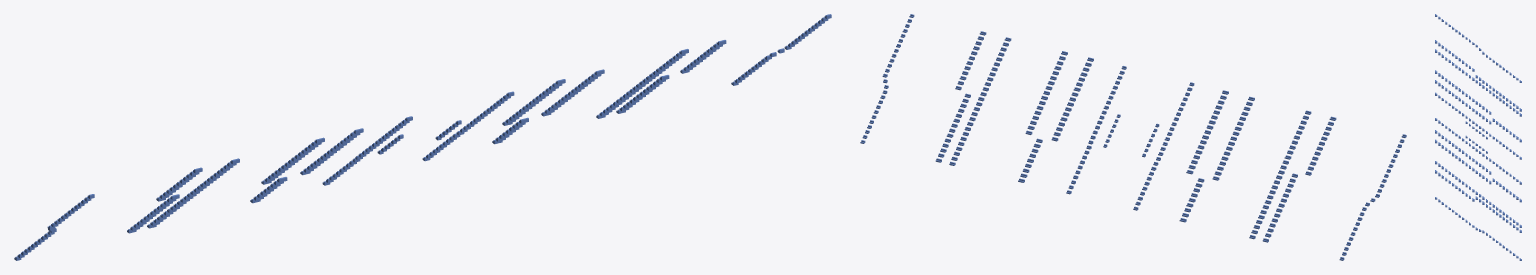
Rendered from Al_Nasar_Football_Stadium_Steps_002.FBX.
The picture shows the model from 3 angles, left to right: view 1: azimuth 30°, elevation 25°; view 2: azimuth 150°, elevation 25°; view 3: azimuth 270°, elevation 25°; orthographic projection. The views are drawn at different scales.
Visible parts, largest first — view 1: Al_Nasar_Football_Stadium_Steps_002_LOD0; view 2: Al_Nasar_Football_Stadium_Steps_002_LOD0; view 3: Al_Nasar_Football_Stadium_Steps_002_LOD0.
Part boxes in pixels (left/top/right/bottom): Al_Nasar_Football_Stadium_Steps_002_LOD0: left=14, top=14, right=831, bottom=260; Al_Nasar_Football_Stadium_Steps_002_LOD0: left=860, top=14, right=1406, bottom=260; Al_Nasar_Football_Stadium_Steps_002_LOD0: left=1435, top=14, right=1521, bottom=260.
Bounding box in the file's own units: 14106 × 2814 × 2336.
